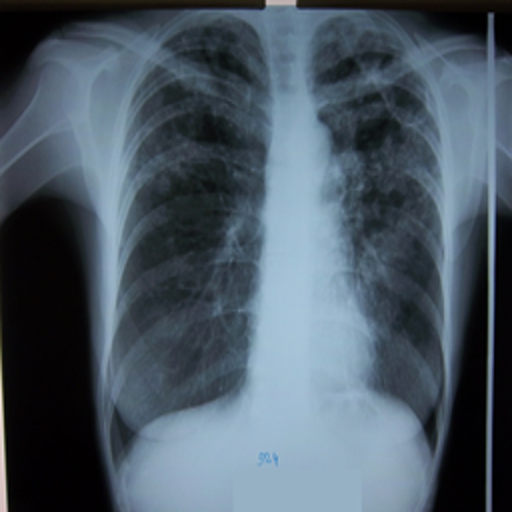TB: (336, 23, 429, 218)
